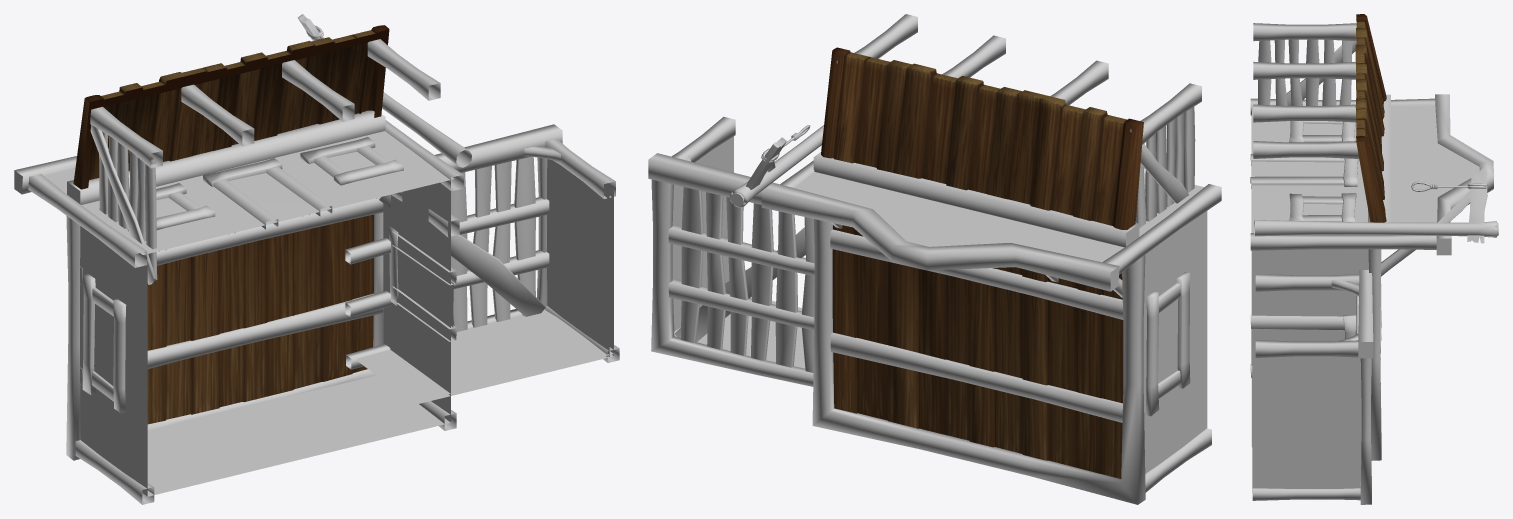
File: City_Building_02.FBX
The picture shows the model from 3 angles, left to right: view 1: azimuth 30°, elevation 25°; view 2: azimuth 150°, elevation 25°; view 3: azimuth 270°, elevation 25°; orthographic projection. The views are drawn at different scales.
Visible parts, largest first — view 1: City_Building_003_7, City_Building_roof_02, City_Building_003_2, City_Building_003_3, City_Building_Gallows, City_Building_003_4, City_Building_003_6, City_Building_003_5; view 2: City_Building_roof_02, City_Building_003_7, City_Building_003_2, City_Building_003_3, City_Building_Gallows, City_Building_003_6, City_Building_003_5, City_Building_003_4; view 3: City_Building_003_7, City_Building_003_2, City_Building_003_3, City_Building_Gallows, City_Building_roof_02, City_Building_003_6, City_Building_003_4, City_Building_003_5, Gallows_rope.
Boxes of the visible parts, <box> form: City_Building_003_7: <box>14,110,463,504</box>; City_Building_roof_02: <box>73,25,389,424</box>; City_Building_003_2: <box>345,124,619,404</box>; City_Building_003_3: <box>90,106,162,284</box>; City_Building_Gallows: <box>297,14,471,167</box>; City_Building_003_4: <box>181,84,254,146</box>; City_Building_003_6: <box>367,39,440,100</box>; City_Building_003_5: <box>282,60,354,121</box>; City_Building_roof_02: <box>821,47,1143,478</box>; City_Building_003_7: <box>761,152,1221,504</box>; City_Building_003_2: <box>648,116,814,386</box>; City_Building_003_3: <box>1136,83,1201,228</box>; City_Building_Gallows: <box>730,125,823,207</box>; City_Building_003_6: <box>854,14,917,58</box>; City_Building_003_5: <box>942,35,1005,78</box>; City_Building_003_4: <box>1050,60,1108,105</box>; City_Building_003_7: <box>1250,94,1493,460</box>; City_Building_003_2: <box>1252,270,1373,504</box>; City_Building_003_3: <box>1251,23,1356,133</box>; City_Building_Gallows: <box>1254,168,1498,243</box>; City_Building_roof_02: <box>1355,14,1386,222</box>; City_Building_003_6: <box>1253,141,1359,158</box>; City_Building_003_4: <box>1253,61,1356,79</box>; City_Building_003_5: <box>1253,104,1356,122</box>; Gallows_rope: <box>1411,181,1487,191</box>.
Size of the model in its own units: 12.94 by 9.11 by 6.46.
